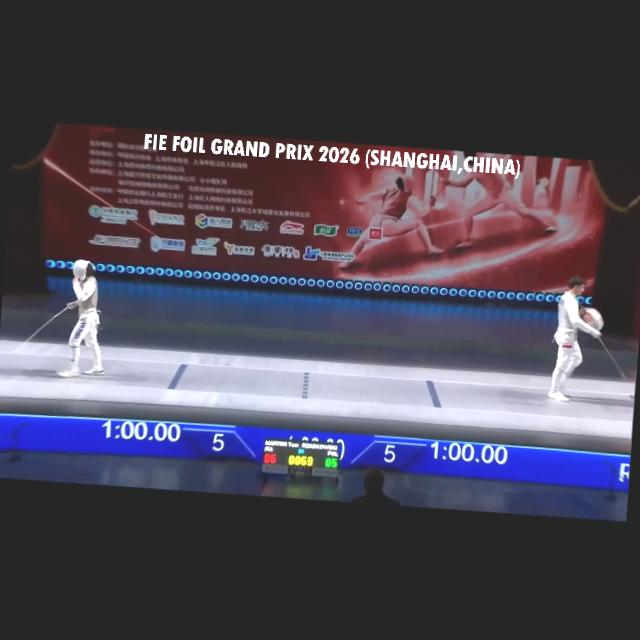blade: (9, 298, 80, 360), (588, 328, 638, 396)
